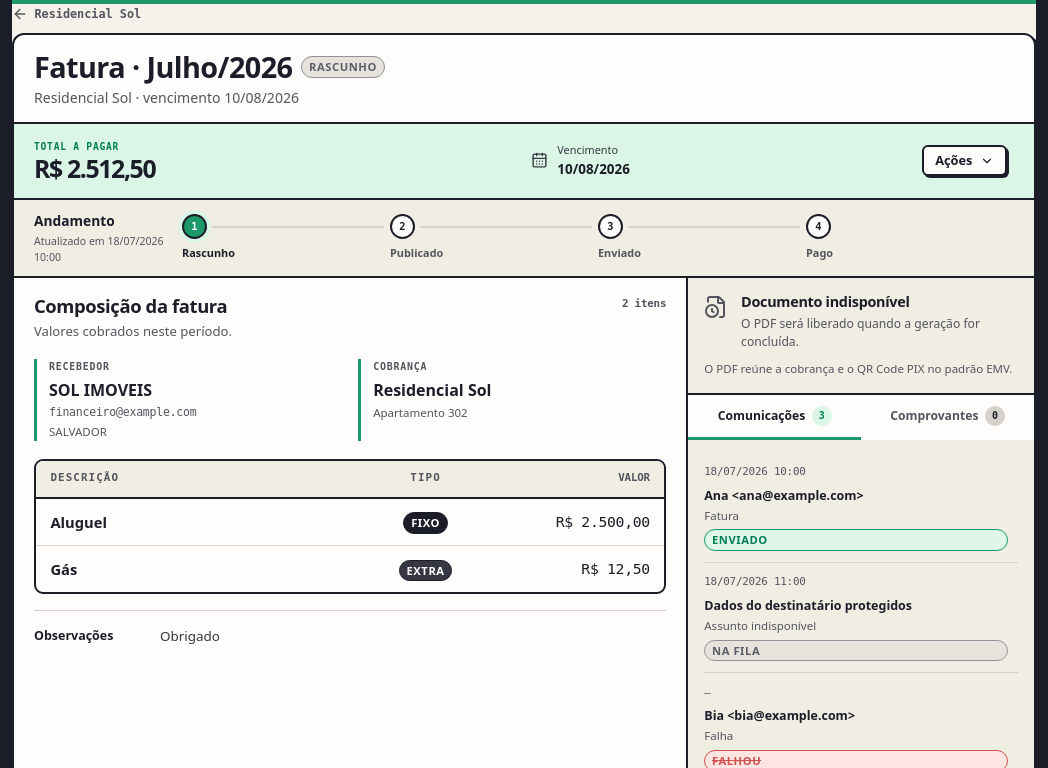
Test case: keeps a transition-only action menu free of unavailable controls
Click the button with aria-label "Ações da fatura": (964, 161) x1=922 y1=145 x2=1007 y2=176
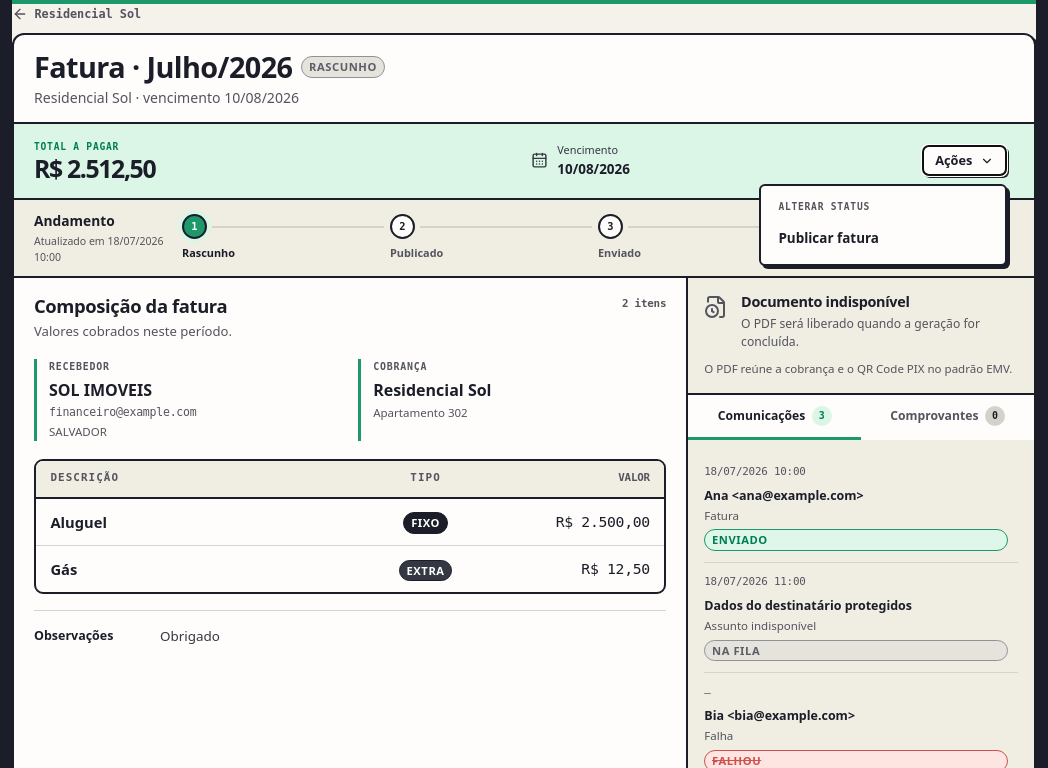
Expected: the text "Alterar status" is shown, x1=778 y1=201 x2=870 y2=212
